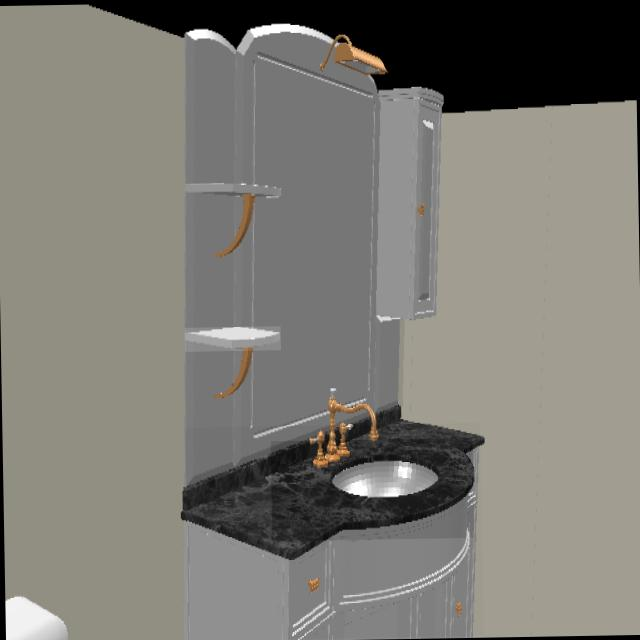cabinet: (187, 424, 480, 640)
shelf: (184, 327, 280, 350), (185, 184, 282, 201)
washbasin: (271, 440, 473, 540)
